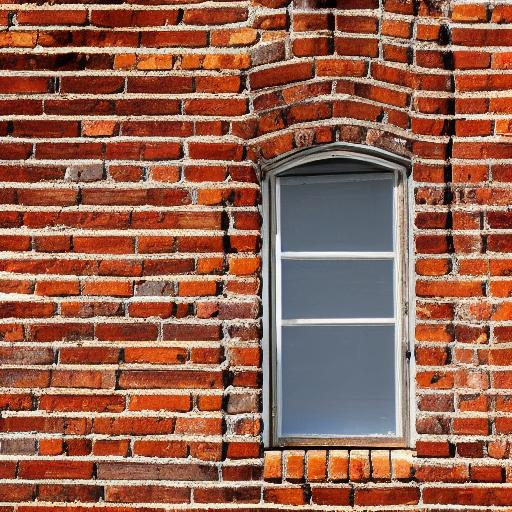Window: (258, 127, 422, 483)
